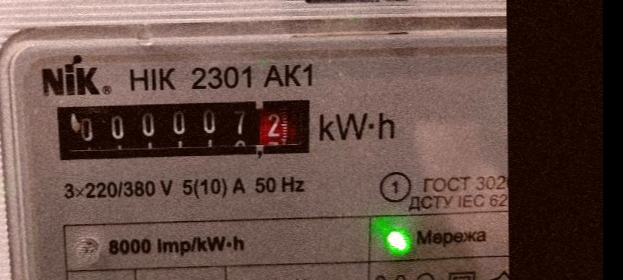0: (138, 109, 156, 137), (108, 112, 125, 140), (77, 114, 94, 141), (200, 106, 216, 134), (170, 107, 185, 134)
2: (265, 109, 281, 138)
7: (230, 107, 246, 136)
screen: (47, 90, 321, 164)
